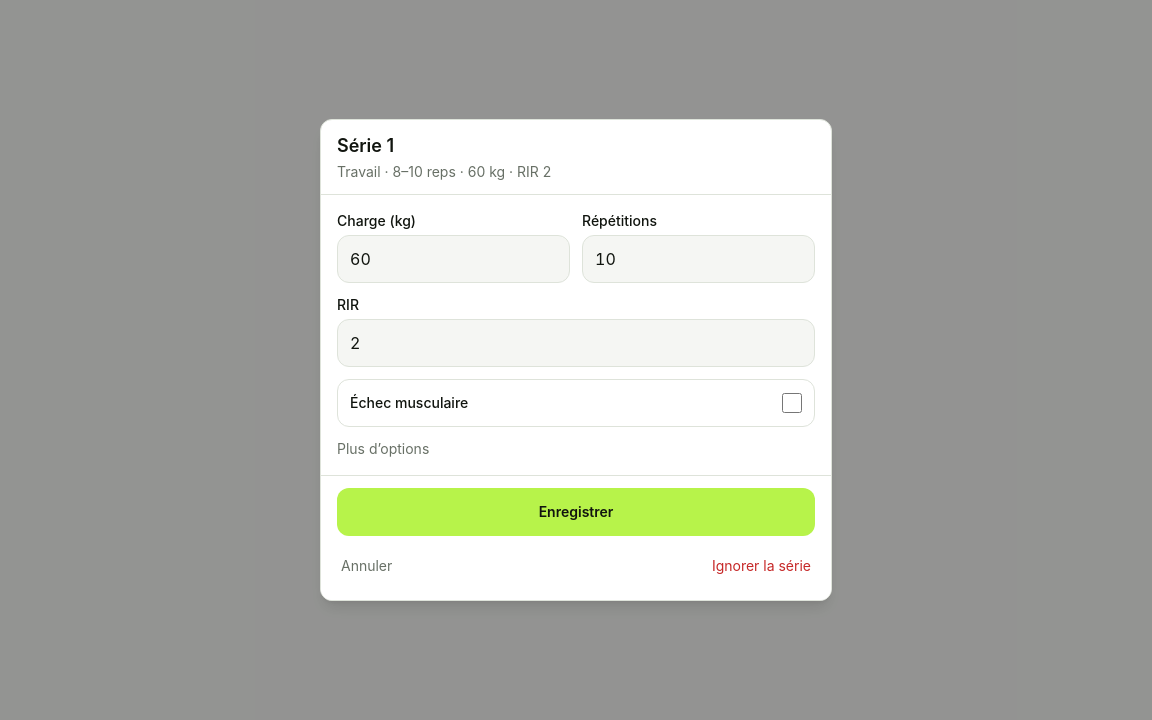
Test: WorkoutSetFormDialog › signale un conflit de version et notifie le parent
Click the button "Enregistrer".
click(576, 512)  # box left=337, top=488, right=815, bottom=536
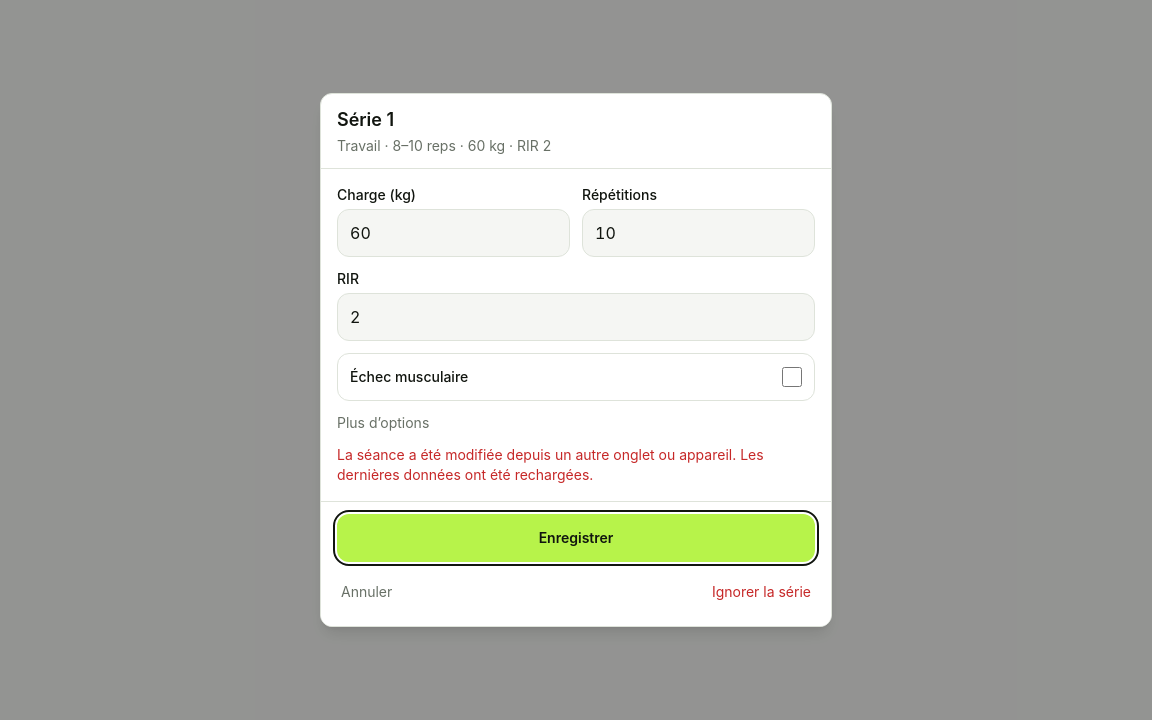
Check: the text "La séance a été modifiée depuis un autre onglet ou appareil" is shown, box left=337, top=446, right=764, bottom=483
